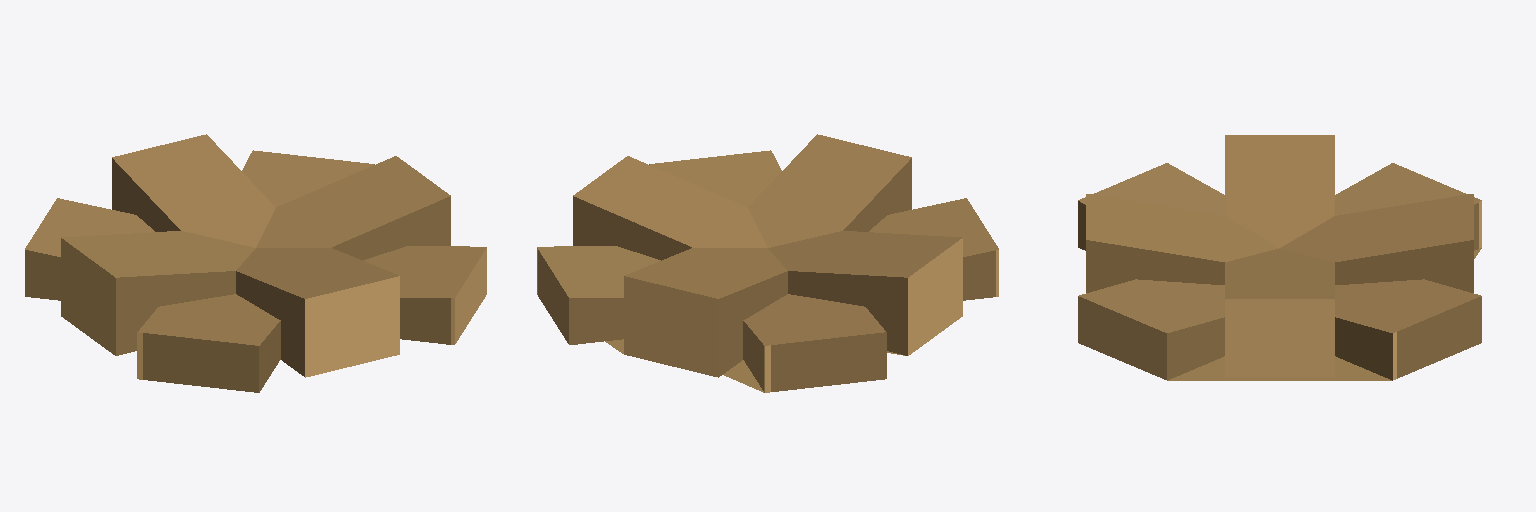
3 renders of one model, left to right at view 1: azimuth 30°, elevation 25°; view 2: azimuth 150°, elevation 25°; view 3: azimuth 270°, elevation 25°, orthographic.
Visible parts, largest first — view 1: Mesh1 Campfire Model; view 2: Mesh1 Campfire Model; view 3: Mesh1 Campfire Model.
Boxes of the visible parts, <box> form: Mesh1 Campfire Model: <box>25,134,486,392</box>; Mesh1 Campfire Model: <box>537,134,998,392</box>; Mesh1 Campfire Model: <box>1078,135,1481,380</box>.
Size of the model in its own units: 0.6993 by 0.15 by 0.6993.
1 materials, 1 textured.